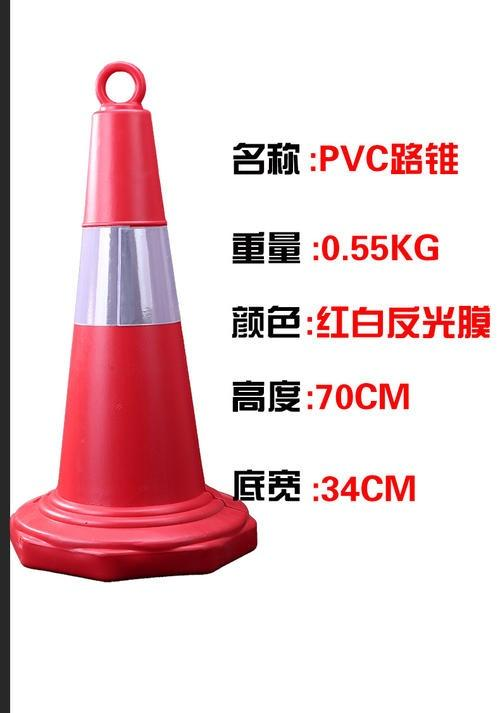cone_barrel: (37, 54, 228, 562)
